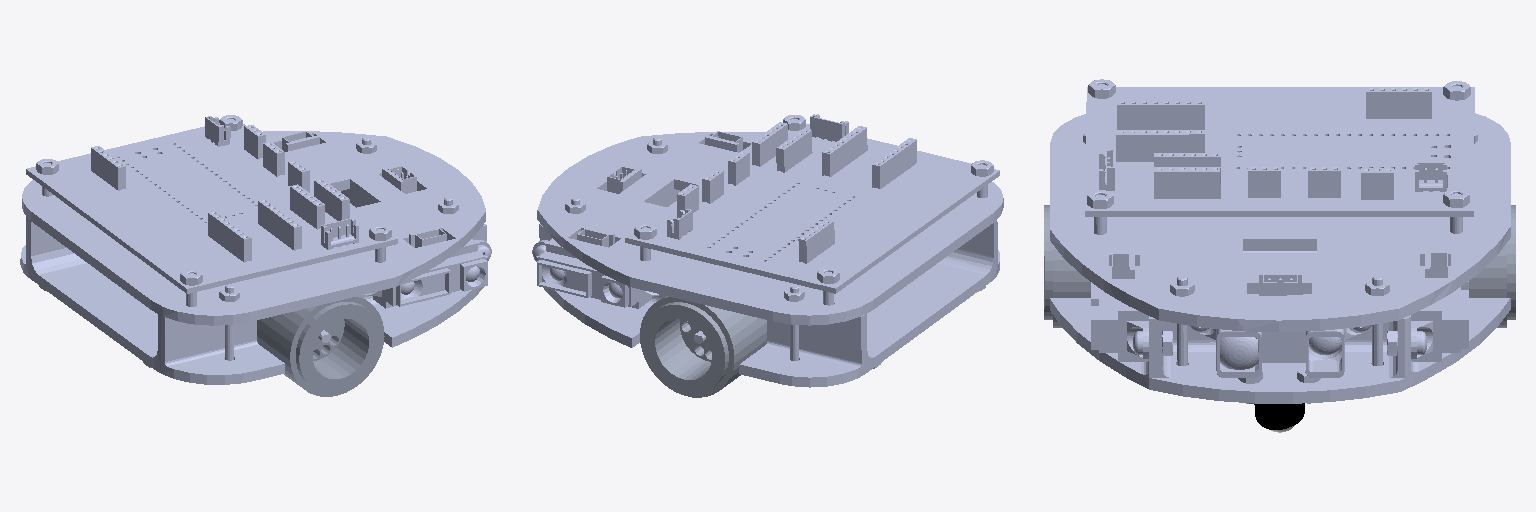
robot.urdf — EnsambleRobot.SLDASM:
<?xml version="1.0" encoding="utf-8"?>
<!-- This URDF was automatically created by SolidWorks to URDF Exporter! Originally created by [author] ([email redacted]) 
     Commit Version: 1.6.0-4-g7f85cfe  Build Version: 1.6.7995.38578
     For more information, please see http://wiki.ros.org/sw_urdf_exporter -->
<robot
  name="EnsambleRobot.SLDASM">
  <link
    name="base_link">
    <inertial>
      <origin
        xyz="0.00490709777806271 -0.000189801490740903 0.0158541076050414"
        rpy="0 0 0" />
      <mass
        value="0.113840294442823" />
      <inertia
        ixx="6.20713657332795E-05"
        ixy="3.73859938549769E-07"
        ixz="-2.92245316767897E-07"
        iyy="8.49118196111279E-05"
        iyz="-9.75716180324087E-08"
        izz="0.00014401772306779" />
    </inertial>
    <visual>
      <origin
        xyz="0 0 0"
        rpy="0 0 0" />
      <geometry>
        <mesh
          filename="package://EnsambleRobot.SLDASM/meshes/base_link.STL" />
      </geometry>
      <material
        name="">
        <color
          rgba="0.792156862745098 0.819607843137255 0.933333333333333 1" />
      </material>
    </visual>
    <collision>
      <origin
        xyz="0 0 0"
        rpy="0 0 0" />
      <geometry>
        <mesh
          filename="package://EnsambleRobot.SLDASM/meshes/base_link.STL" />
      </geometry>
    </collision>
  </link>
  <link
    name="L_wheel_link">
    <inertial>
      <origin
        xyz="-2.991E-05 0.00010441 0.010675"
        rpy="0 0 0" />
      <mass
        value="0.019388" />
      <inertia
        ixx="2.051E-06"
        ixy="-1.3818E-09"
        ixz="-1.2588E-09"
        iyy="2.0647E-06"
        iyz="5.4839E-09"
        izz="2.4409E-06" />
    </inertial>
    <visual>
      <origin
        xyz="0 0 0"
        rpy="0 0 0" />
      <geometry>
        <mesh
          filename="package://EnsambleRobot.SLDASM/meshes/L_wheel_link.STL" />
      </geometry>
      <material
        name="">
        <color
          rgba="0.66667 0.69804 0.76863 1" />
      </material>
    </visual>
    <collision>
      <origin
        xyz="0 0 0"
        rpy="0 0 0" />
      <geometry>
        <mesh
          filename="package://EnsambleRobot.SLDASM/meshes/L_wheel_link.STL" />
      </geometry>
    </collision>
  </link>
  <joint
    name="L_Wheel_joint"
    type="continuous">
    <origin
      xyz="-0.0043278 0.031199 0.0080157"
      rpy="-1.5708 0.0038917 -0.0016425" />
    <parent
      link="base_link" />
    <child
      link="L_wheel_link" />
    <axis
      xyz="0 0 1" />
  </joint>
  <link
    name="R_wheel_link">
    <inertial>
      <origin
        xyz="5.8089E-05 -8.7372E-05 -0.010675"
        rpy="0 0 0" />
      <mass
        value="0.019388" />
      <inertia
        ixx="2.0552E-06"
        ixy="-6.4251E-09"
        ixz="-3.0525E-09"
        iyy="2.0605E-06"
        iyz="4.5913E-09"
        izz="2.4409E-06" />
    </inertial>
    <visual>
      <origin
        xyz="0 0 0"
        rpy="0 0 0" />
      <geometry>
        <mesh
          filename="package://EnsambleRobot.SLDASM/meshes/R_wheel_link.STL" />
      </geometry>
      <material
        name="">
        <color
          rgba="0.66667 0.69804 0.76863 1" />
      </material>
    </visual>
    <collision>
      <origin
        xyz="0 0 0"
        rpy="0 0 0" />
      <geometry>
        <mesh
          filename="package://EnsambleRobot.SLDASM/meshes/R_wheel_link.STL" />
      </geometry>
    </collision>
  </link>
  <joint
    name="R_wheel_joint"
    type="continuous">
    <origin
      xyz="-0.0043053 -0.0312 0.008035"
      rpy="-1.5708 0 0.00018716" />
    <parent
      link="base_link" />
    <child
      link="R_wheel_link" />
    <axis
      xyz="0 0 1" />
  </joint>
  <link
    name="base_ball_link">
    <inertial>
      <origin
        xyz="-0.00015674 3.6616E-06 0.0017564"
        rpy="0 0 0" />
      <mass
        value="0.00033463" />
      <inertia
        ixx="6.321E-09"
        ixy="1.3819E-11"
        ixz="1.729E-10"
        iyy="6.9189E-09"
        iyz="-3.8417E-12"
        izz="1.0328E-08" />
    </inertial>
    <visual>
      <origin
        xyz="0 0 0"
        rpy="0 0 0" />
      <geometry>
        <mesh
          filename="package://EnsambleRobot.SLDASM/meshes/base_ball_link.STL" />
      </geometry>
      <material
        name="">
        <color
          rgba="0 0 0 1" />
      </material>
    </visual>
    <collision>
      <origin
        xyz="0 0 0"
        rpy="0 0 0" />
      <geometry>
        <mesh
          filename="package://EnsambleRobot.SLDASM/meshes/base_ball_link.STL" />
      </geometry>
    </collision>
  </link>
  <joint
    name="base_ball_joint"
    type="fixed">
    <origin
      xyz="0.056423 -3.722E-05 0.0031184"
      rpy="-3.1383 0 1.571" />
    <parent
      link="base_link" />
    <child
      link="base_ball_link" />
    <axis
      xyz="0 0 0" />
  </joint>
  <link
    name="foward_ball_link">
    <inertial>
      <origin
        xyz="0 6.9389E-18 3.4694E-18"
        rpy="0 0 0" />
      <mass
        value="0.00042116" />
      <inertia
        ixx="3.6426E-09"
        ixy="-1.2278E-25"
        ixz="1.2925E-26"
        iyy="3.6426E-09"
        iyz="-2.6253E-27"
        izz="3.6426E-09" />
    </inertial>
    <visual>
      <origin
        xyz="0 0 0"
        rpy="0 0 0" />
      <geometry>
        <mesh
          filename="package://EnsambleRobot.SLDASM/meshes/foward_ball_link.STL" />
      </geometry>
      <material
        name="">
        <color
          rgba="1 1 1 1" />
      </material>
    </visual>
    <collision>
      <origin
        xyz="0 0 0"
        rpy="0 0 0" />
      <geometry>
        <mesh
          filename="package://EnsambleRobot.SLDASM/meshes/foward_ball_link.STL" />
      </geometry>
    </collision>
  </link>
  <joint
    name="foward_ball_joint"
    type="continuous">
    <origin
      xyz="0 0 0.0048155"
      rpy="1.5467 0.018736 1.5131" />
    <parent
      link="base_ball_link" />
    <child
      link="foward_ball_link" />
    <axis
      xyz="0 0 1" />
  </joint>
  <link
    name="lateral_ball_link">
    <inertial>
      <origin
        xyz="0 0 1.3878E-17"
        rpy="0 0 0" />
      <mass
        value="0.00042116" />
      <inertia
        ixx="3.6426E-09"
        ixy="6.4623E-27"
        ixz="1.2925E-25"
        iyy="3.6426E-09"
        iyz="6.4623E-27"
        izz="3.6426E-09" />
    </inertial>
    <visual>
      <origin
        xyz="0 0 0"
        rpy="0 0 0" />
      <geometry>
        <mesh
          filename="package://EnsambleRobot.SLDASM/meshes/lateral_ball_link.STL" />
      </geometry>
      <material
        name="">
        <color
          rgba="1 1 1 1" />
      </material>
    </visual>
    <collision>
      <origin
        xyz="0 0 0"
        rpy="0 0 0" />
      <geometry>
        <mesh
          filename="package://EnsambleRobot.SLDASM/meshes/lateral_ball_link.STL" />
      </geometry>
    </collision>
  </link>
  <joint
    name="lateral_ball_joint"
    type="continuous">
    <origin
      xyz="0 0 0.0048155"
      rpy="-3.1416 -0.064409 1.5485" />
    <parent
      link="base_ball_link" />
    <child
      link="lateral_ball_link" />
    <axis
      xyz="0 0 1" />
  </joint>
</robot>

--- What the picture shows (computed from the rendered views, not written in the file) ---
The picture shows the robot from 3 angles, left to right: view 1: azimuth 30°, elevation 25°; view 2: azimuth 150°, elevation 25°; view 3: azimuth 270°, elevation 25°; orthographic projection.
Model EnsambleRobot.SLDASM with 6 links and 5 joints (4 continuous, 1 fixed), rooted at base_link, posed every joint at zero.
Visible links, largest first — view 1: base_link, R_wheel_link; view 2: base_link, L_wheel_link; view 3: base_link, L_wheel_link, R_wheel_link, base_ball_link.
Boxes of the visible links, x1,y1,x2,y2 form: base_link: [20, 115, 491, 384]; R_wheel_link: [257, 296, 384, 396]; base_link: [532, 114, 1003, 387]; L_wheel_link: [640, 296, 766, 397]; base_link: [1050, 79, 1510, 403]; L_wheel_link: [1469, 205, 1515, 327]; R_wheel_link: [1044, 205, 1090, 327]; base_ball_link: [1254, 403, 1304, 429].
Bounding box of the posed robot: 0.116 × 0.1085 × 0.0466 m (x, y, z).
6 mesh visuals loaded from 6 distinct referenced files (6 binary STL).